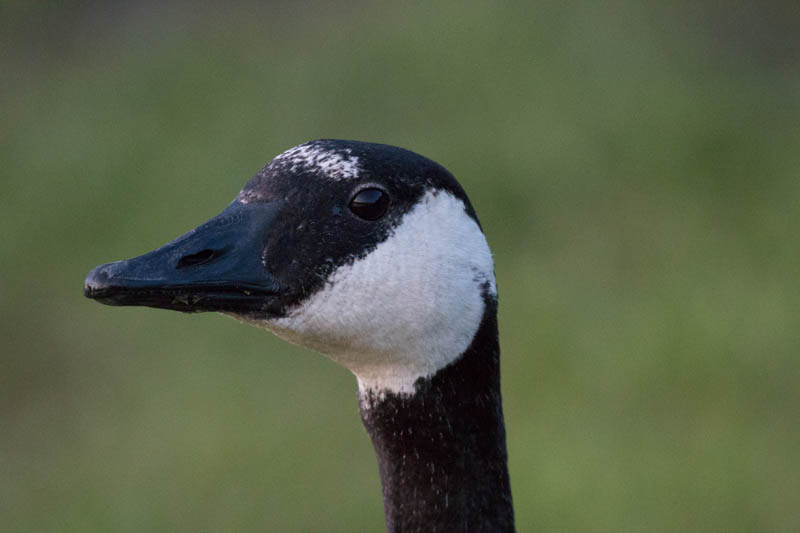goose-head: (82, 137, 502, 386)
